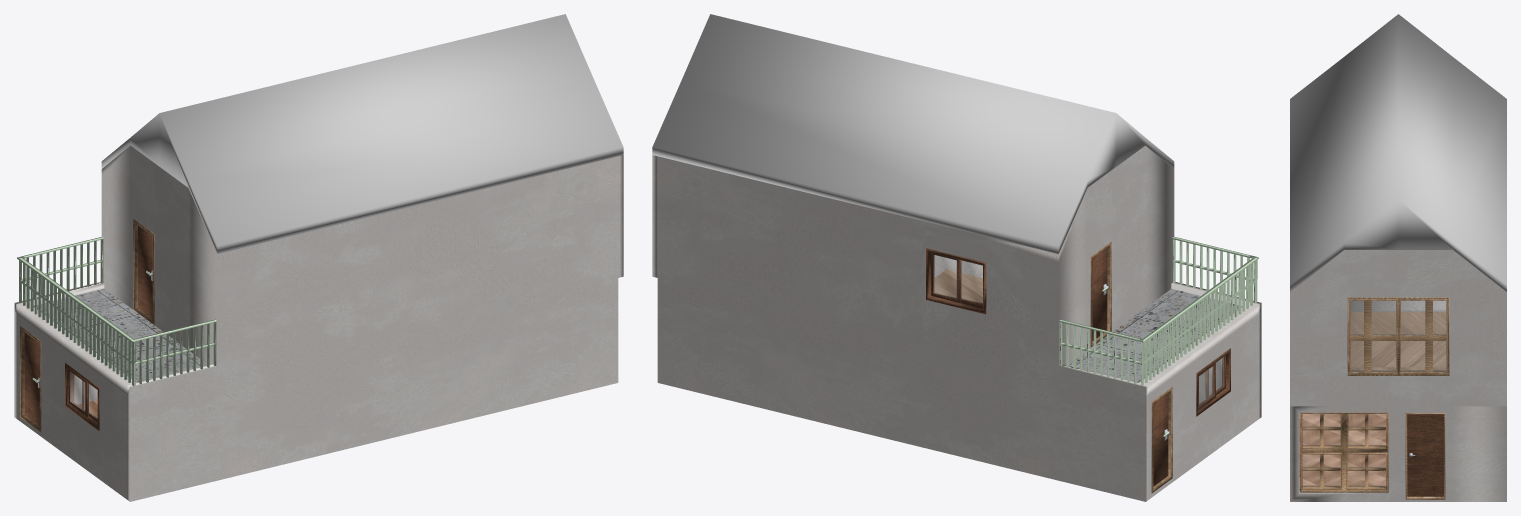
File: simple_small_house.fbx
The picture shows the model from 3 angles, left to right: view 1: azimuth 30°, elevation 25°; view 2: azimuth 150°, elevation 25°; view 3: azimuth 270°, elevation 25°; orthographic projection. The views are drawn at different scales.
Parts seen in each view (by area): view 1: Cube.010, roof, Cube.004, Ext.003, Ext.009, Ext.002, Ext.008, Cube.003, Cube.002; view 2: Cube.010, roof, Cube.004, Cube.014, Ext.003, Ext.009, Interior_secorndFloor, Cube.001, Cube.013, Ext.002, Ext.008, Cube.002; view 3: roof, Cube.010, Interior_firstFloor, Interior_secorndFloor, BigWindow.002, BigWindow.001, DoorFrame.001, BigWindow.006, BigWindow.004, BigWindow.005, BigWindow, BigWindow.003 (+3 smaller).
Boxes of the visible parts, x1,y1,x2,y2 form: Cube.010: (14, 145, 623, 501); roof: (101, 14, 623, 253); Cube.004: (17, 237, 216, 385); Ext.003: (24, 332, 39, 425); Ext.009: (138, 225, 152, 318); Ext.002: (20, 326, 41, 432); Ext.008: (133, 219, 154, 324); Cube.003: (68, 369, 88, 416); Cube.002: (65, 363, 99, 430); Cube.010: (652, 145, 1261, 501); roof: (652, 14, 1174, 253); Cube.004: (1059, 236, 1258, 385); Cube.014: (931, 252, 961, 302); Ext.003: (1153, 393, 1168, 486); Ext.009: (1092, 248, 1107, 340); Interior_secorndFloor: (934, 269, 982, 303); Cube.001: (926, 248, 986, 314); Cube.013: (956, 260, 982, 307); Ext.002: (1151, 387, 1172, 493); Ext.008: (1090, 241, 1111, 347); Cube.002: (1196, 348, 1230, 416); roof: (1290, 14, 1506, 291); Cube.010: (1290, 250, 1506, 501); Interior_firstFloor: (1299, 413, 1387, 488); Interior_secorndFloor: (1350, 312, 1446, 370); BigWindow.002: (1398, 299, 1447, 374); BigWindow.001: (1349, 299, 1398, 374); DoorFrame.001: (1407, 414, 1443, 496); BigWindow.006: (1300, 412, 1388, 492); BigWindow.004: (1346, 452, 1386, 489); BigWindow.005: (1302, 452, 1341, 489); BigWindow: (1346, 414, 1386, 448); BigWindow.003: (1302, 414, 1341, 448).
Size of the model in its own units: 1134 by 713 by 460.
